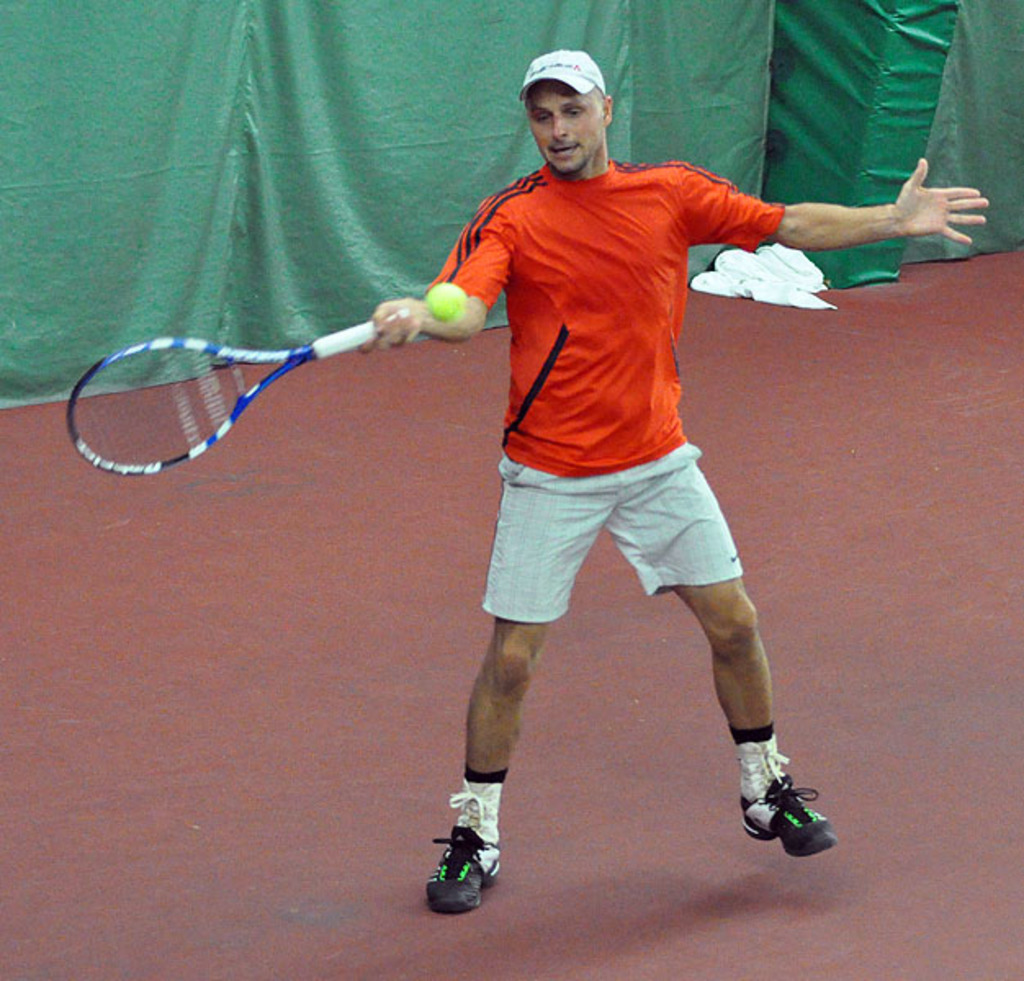Human_hand: (892, 158, 988, 246), (360, 297, 423, 353)
